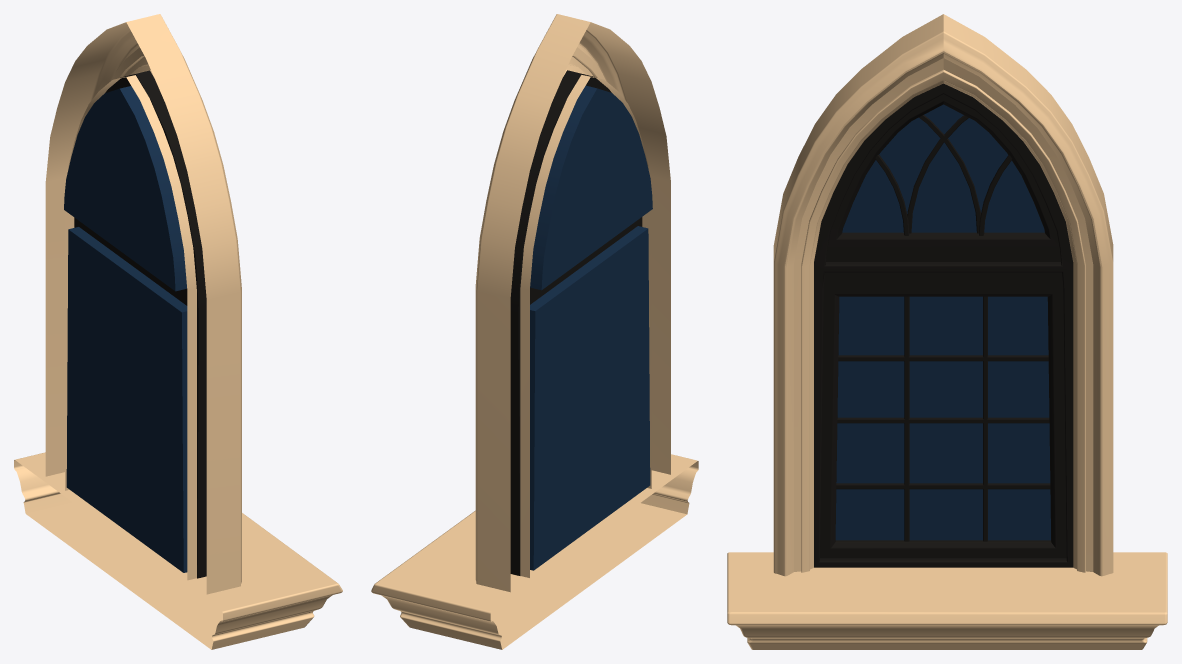
Rendered from window.obj.
3 views of the same model, side by side, from view 1: azimuth 30°, elevation 25°; view 2: azimuth 150°, elevation 25°; view 3: azimuth 270°, elevation 25° (orthographic). The views are drawn at different scales.
Visible parts, largest first — view 1: pCube29; view 2: pCube29; view 3: pCube29.
Part boxes in pixels (box(x1,y1,x2,y2)): pCube29: box(14, 14, 342, 649); pCube29: box(371, 14, 698, 649); pCube29: box(727, 14, 1167, 649).
Bounding box in the file's own units: 41.86 × 184 × 124.
